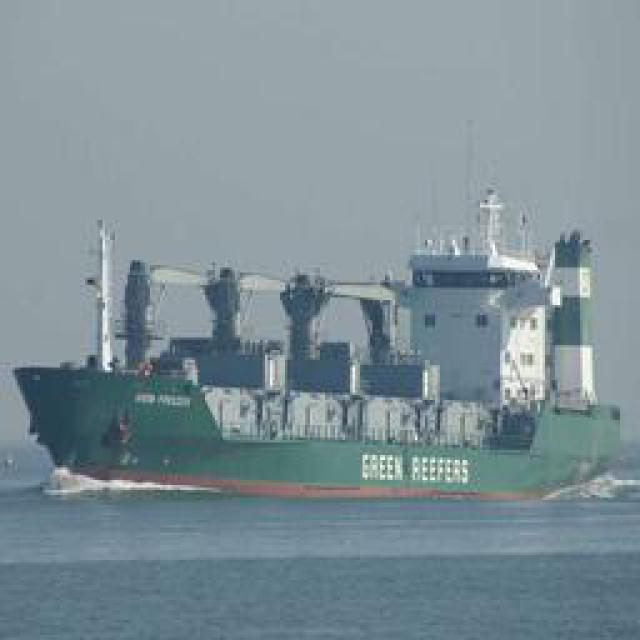Ship: (10, 227, 613, 490)
